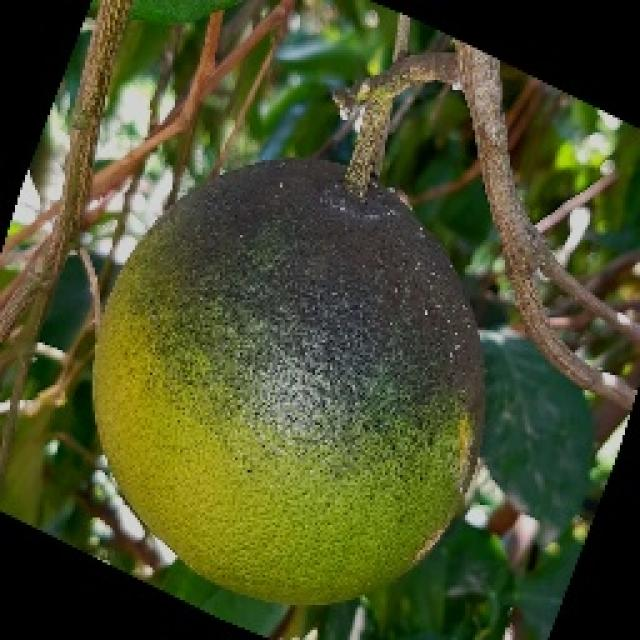Sooty Mold: (88, 152, 488, 608)
